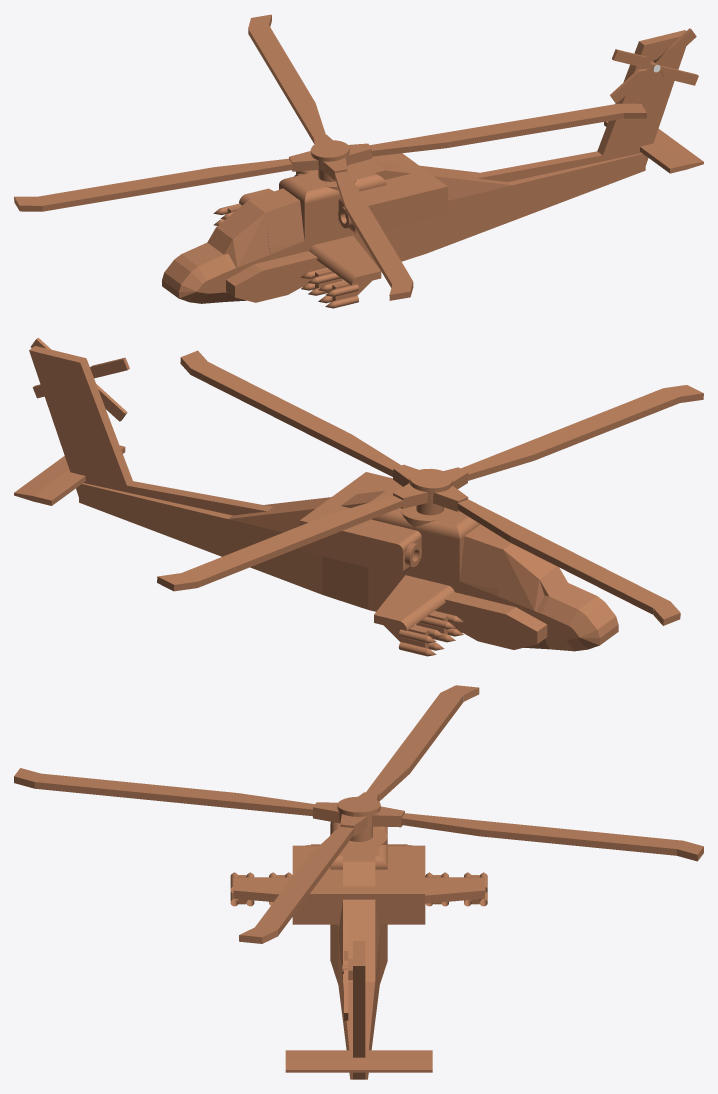
The model's file is oscar.obj.
3 views of the same model, one above another, from view 1: azimuth 30°, elevation 25°; view 2: azimuth 150°, elevation 25°; view 3: azimuth 270°, elevation 25° (orthographic). The views are drawn at different scales.
Parts seen in each view (by area): view 1: Mesh26 Model, Mesh23 Group23 Model, Mesh10 Group11 Group10 Model; view 2: Mesh26 Model, Mesh23 Group23 Model, Mesh21 Group22 Group21 Model; view 3: Mesh26 Model, Mesh23 Group23 Model.
Boxes of the visible parts, x1,y1,x2,y2 form: Mesh26 Model: (162, 28, 703, 303); Mesh23 Group23 Model: (14, 14, 646, 300); Mesh10 Group11 Group10 Model: (226, 251, 326, 302); Mesh26 Model: (14, 337, 618, 651); Mesh23 Group23 Model: (157, 350, 703, 625); Mesh21 Group22 Group21 Model: (435, 592, 546, 649); Mesh26 Model: (233, 821, 484, 1079); Mesh23 Group23 Model: (14, 685, 703, 943).
Bounding box in the file's own units: 409 × 96.08 × 348.
